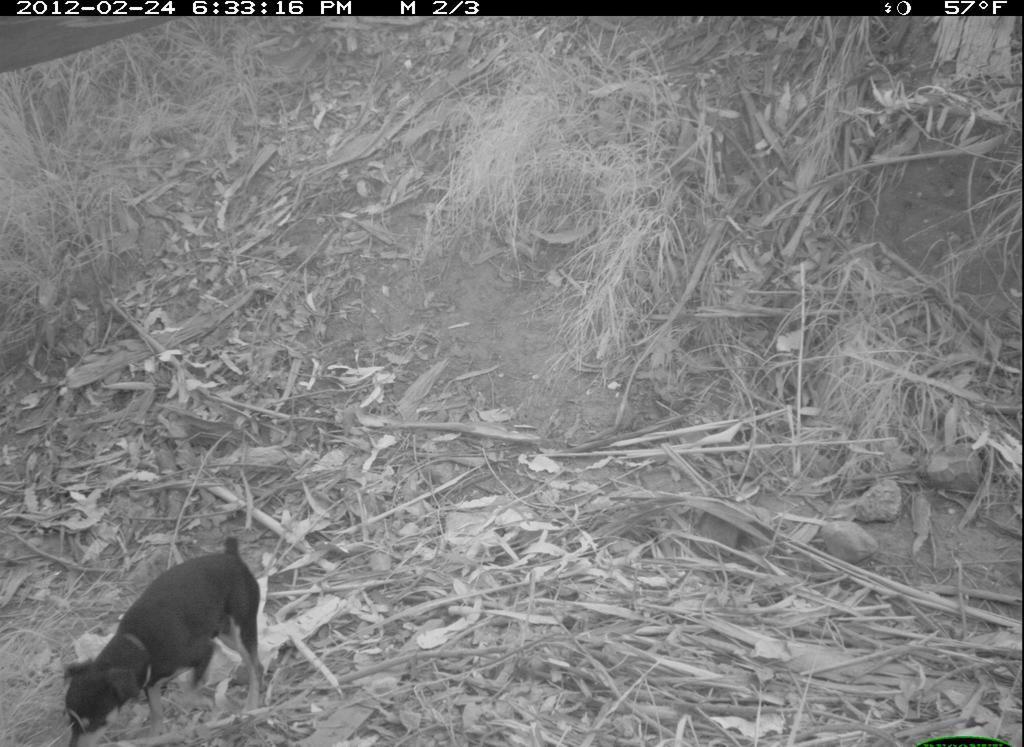dog: (62, 530, 274, 747)
